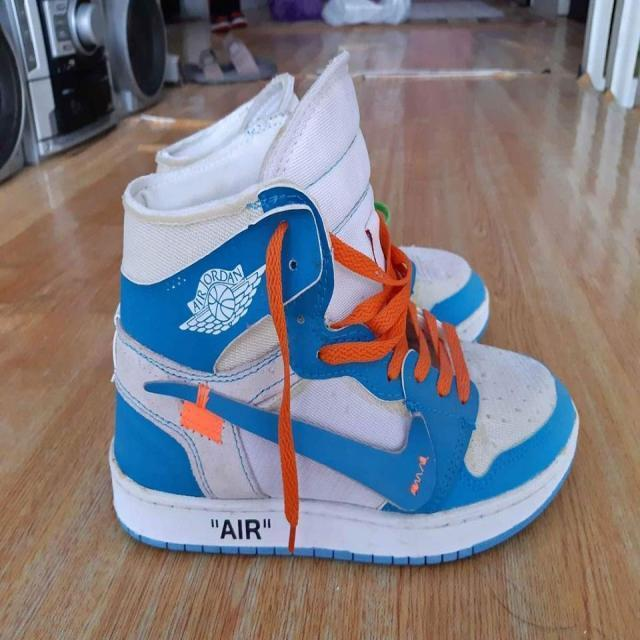nike fake jordan 1: (108, 48, 582, 569), (162, 75, 504, 346)
